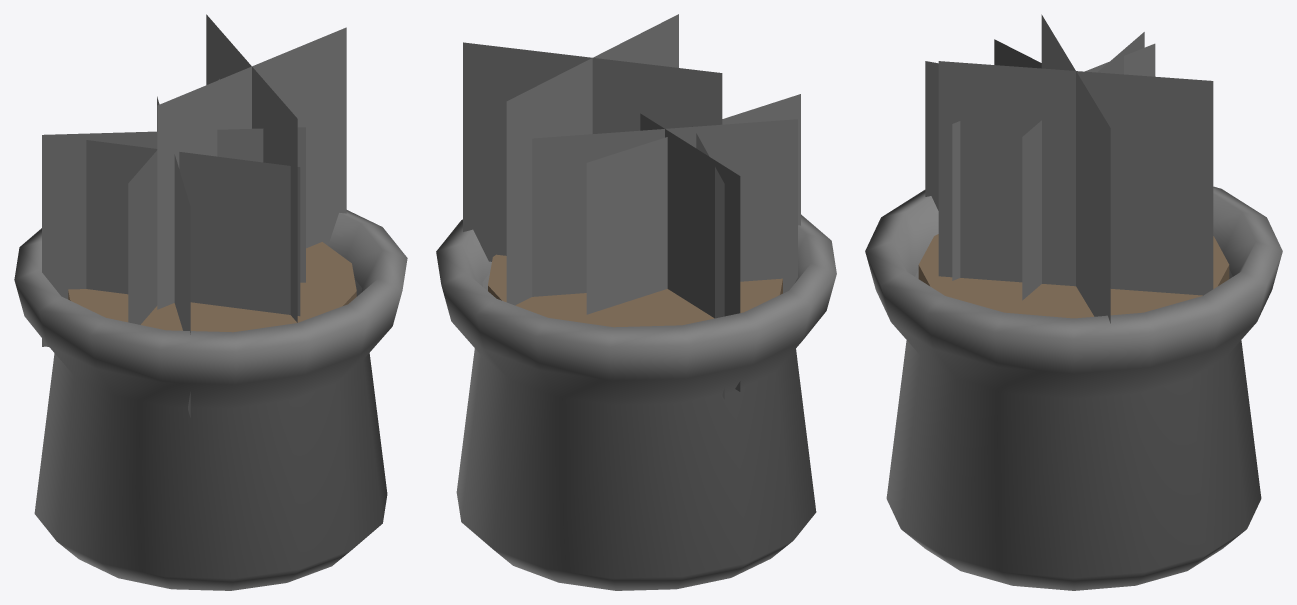
File: planter-small.glb
3 renders of one model, left to right at view 1: azimuth 30°, elevation 25°; view 2: azimuth 150°, elevation 25°; view 3: azimuth 270°, elevation 25°, orthographic. The views are drawn at different scales.
Parts seen in each view (by area): view 1: pot, leafcard, leafcard.003, leafcard.001, soil, leafcard.004, leafcard.002, leafcard.005; view 2: pot, leafcard.002, leafcard.003, leafcard.005, leafcard.004, leafcard.001, soil, leafcard; view 3: pot, leafcard.004, leafcard.003, soil, leafcard.001, leafcard, leafcard.005, leafcard.002.
Part boxes in pixels (<box>): pot: <box>14,210,407,590</box>; leafcard: <box>47,140,300,346</box>; leafcard.003: <box>157,27,346,309</box>; leafcard.001: <box>42,127,305,346</box>; soil: <box>68,242,356,332</box>; leafcard.004: <box>206,14,297,322</box>; leafcard.002: <box>128,79,219,324</box>; leafcard.005: <box>157,96,190,417</box>; pot: <box>436,214,836,590</box>; leafcard.002: <box>532,119,797,296</box>; leafcard.003: <box>463,42,722,261</box>; leafcard.005: <box>586,94,800,314</box>; leafcard.004: <box>506,14,678,305</box>; leafcard.001: <box>640,113,740,391</box>; soil: <box>488,254,782,327</box>; leafcard: <box>692,126,724,399</box>; pot: <box>865,186,1282,590</box>; leafcard.004: <box>938,61,1213,295</box>; leafcard.003: <box>1041,14,1110,323</box>; soil: <box>918,234,1229,318</box>; leafcard.001: <box>1022,32,1144,300</box>; leafcard: <box>952,43,1155,280</box>; leafcard.005: <box>925,61,938,210</box>; leafcard.002: <box>994,39,1041,68</box>.
Bounding box in the file's own units: 0.4836 × 0.605 × 0.4836.
Materials: 5 (4 with a texture image).
